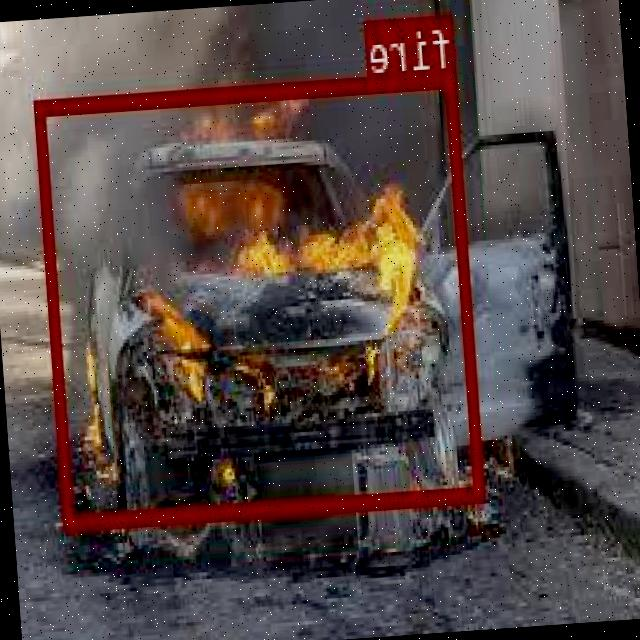fire: (36, 70, 486, 527)
